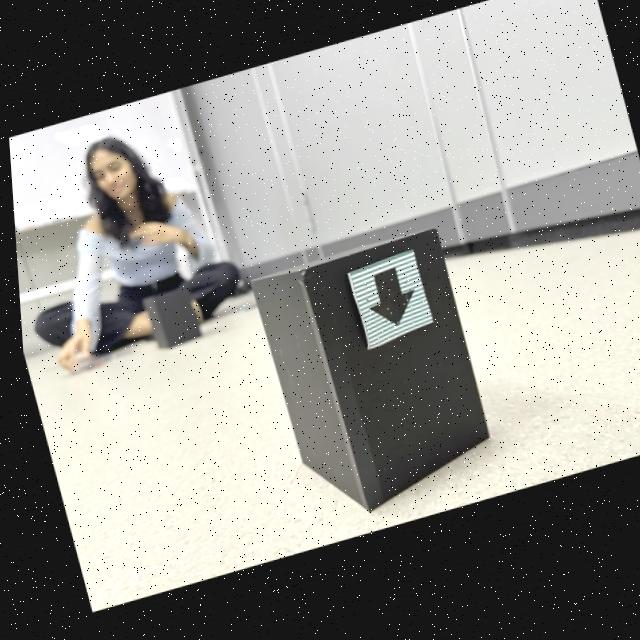DOWN: (364, 274, 410, 332)
